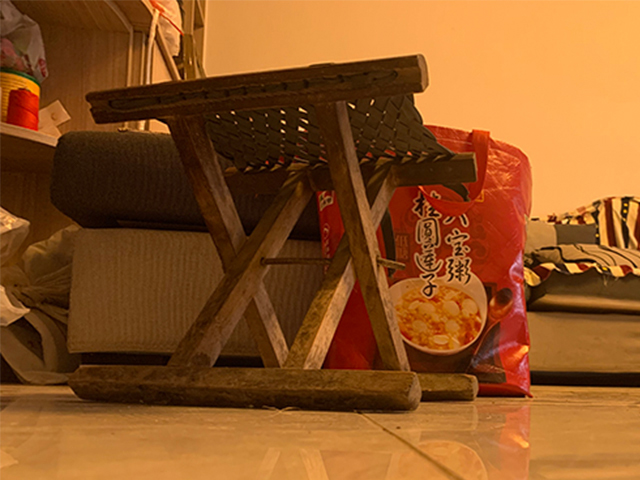stool: (66, 54, 478, 412)
